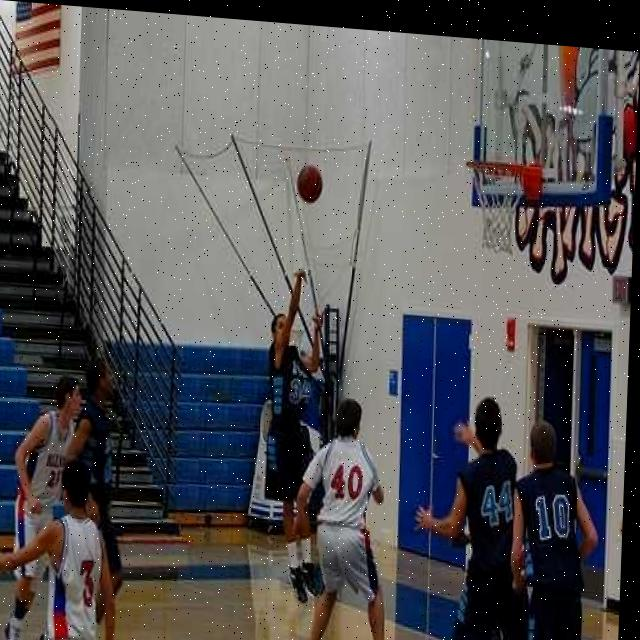basketball: (295, 161, 324, 206)
hoop: (460, 157, 532, 261)
